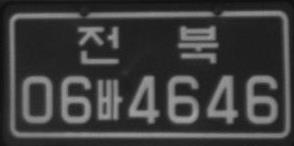0: (20, 74, 53, 123)
4: (206, 74, 238, 124), (128, 75, 160, 124)
6: (244, 73, 279, 125), (166, 74, 199, 124), (59, 73, 91, 123)
바: (96, 78, 123, 120)
전북_D: (77, 24, 220, 64)
